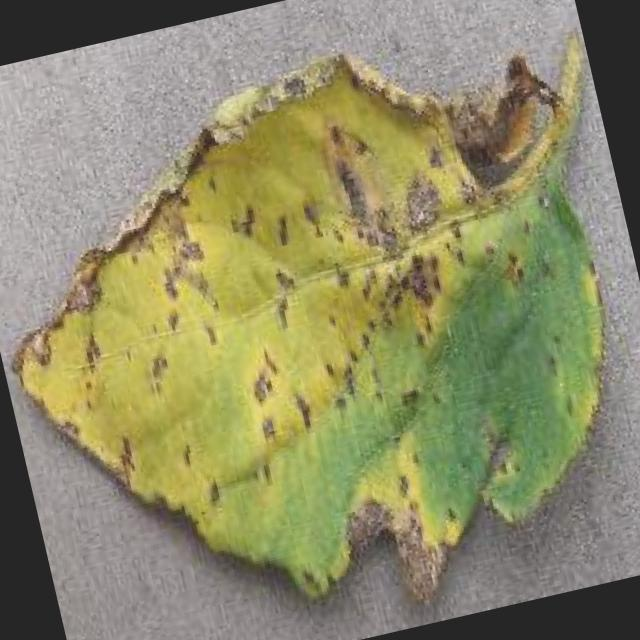bacterial spot: (5, 30, 606, 615)
